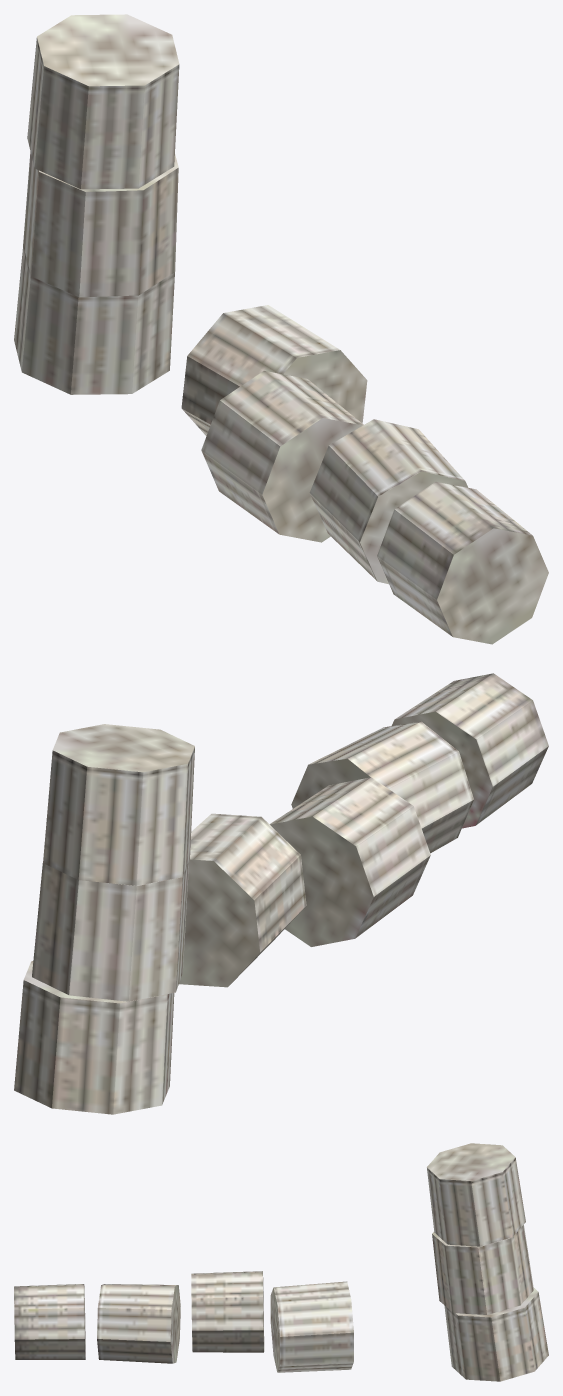
File: column_fallen_c.dae
3 renders of one model, top to bottom at view 1: azimuth 30°, elevation 25°; view 2: azimuth 150°, elevation 25°; view 3: azimuth 270°, elevation 25°, orthographic. The views are drawn at different scales.
Parts seen in each view (by area): view 1: Cylinder_002-Pivot; view 2: Cylinder_002-Pivot; view 3: Cylinder_002-Pivot.
Part boxes in pixels (x1,y1,x2,y2): Cylinder_002-Pivot: (14, 14, 548, 644); Cylinder_002-Pivot: (14, 673, 548, 1114); Cylinder_002-Pivot: (14, 1143, 548, 1381).
Size of the model in its own units: 2.57 by 10.96 by 4.68.
